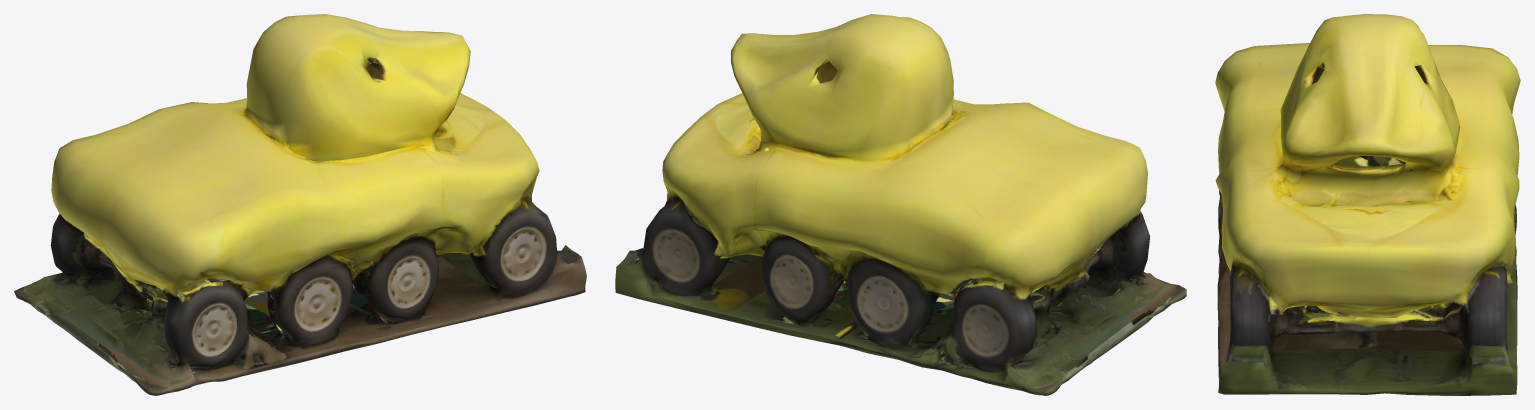
The model's file is Ducky_Tank_0829050108_texture.glb.
3 views of the same model, side by side, from view 1: azimuth 30°, elevation 25°; view 2: azimuth 150°, elevation 25°; view 3: azimuth 270°, elevation 25° (orthographic). The views are drawn at different scales.
Visible parts, largest first — view 1: Mesh0; view 2: Mesh0; view 3: Mesh0.
Part boxes in pixels (x1,y1,x2,y2): Mesh0: [14, 14, 586, 395]; Mesh0: [615, 14, 1186, 395]; Mesh0: [1215, 14, 1520, 395].
Size of the model in its own units: 1.99 by 1.16 by 1.17.
Materials: 1 (1 with a texture image).
